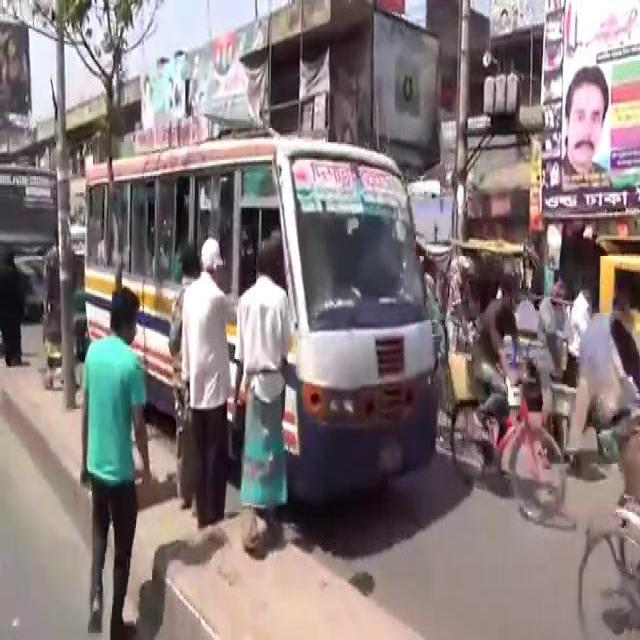13: (575, 308, 637, 630)
Motorcycle: (449, 275, 569, 525)
Truck: (78, 132, 440, 514), (0, 151, 57, 283)
